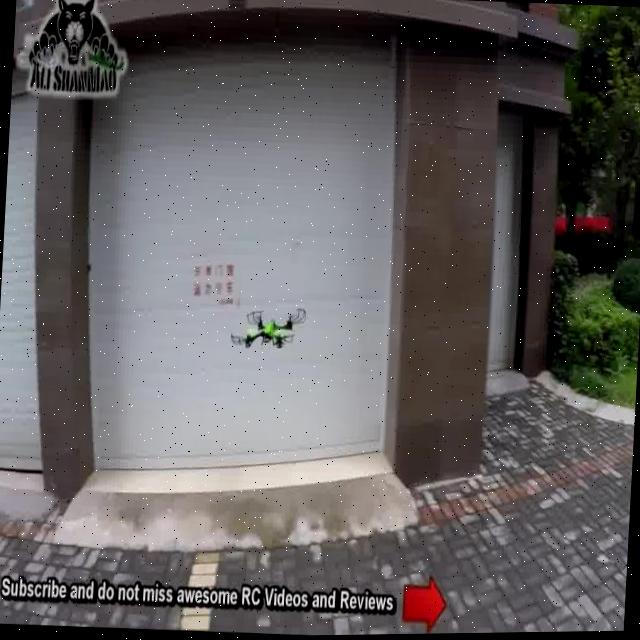drone: (228, 305, 302, 361)
